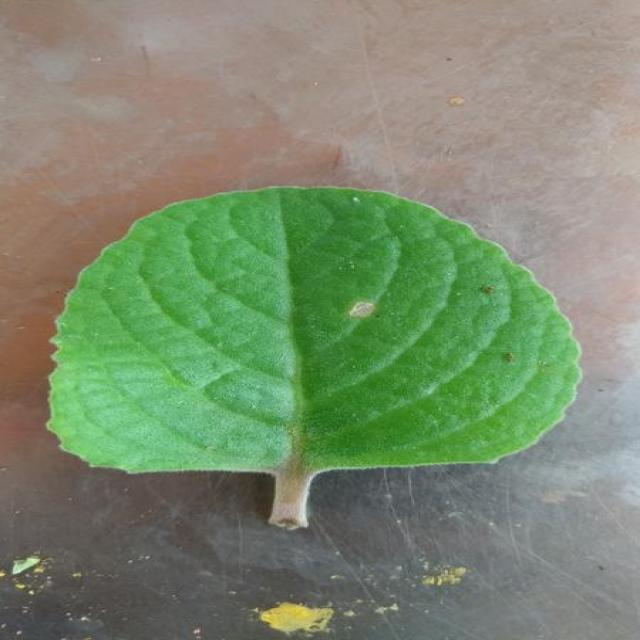doddpathre: (48, 188, 580, 528)
